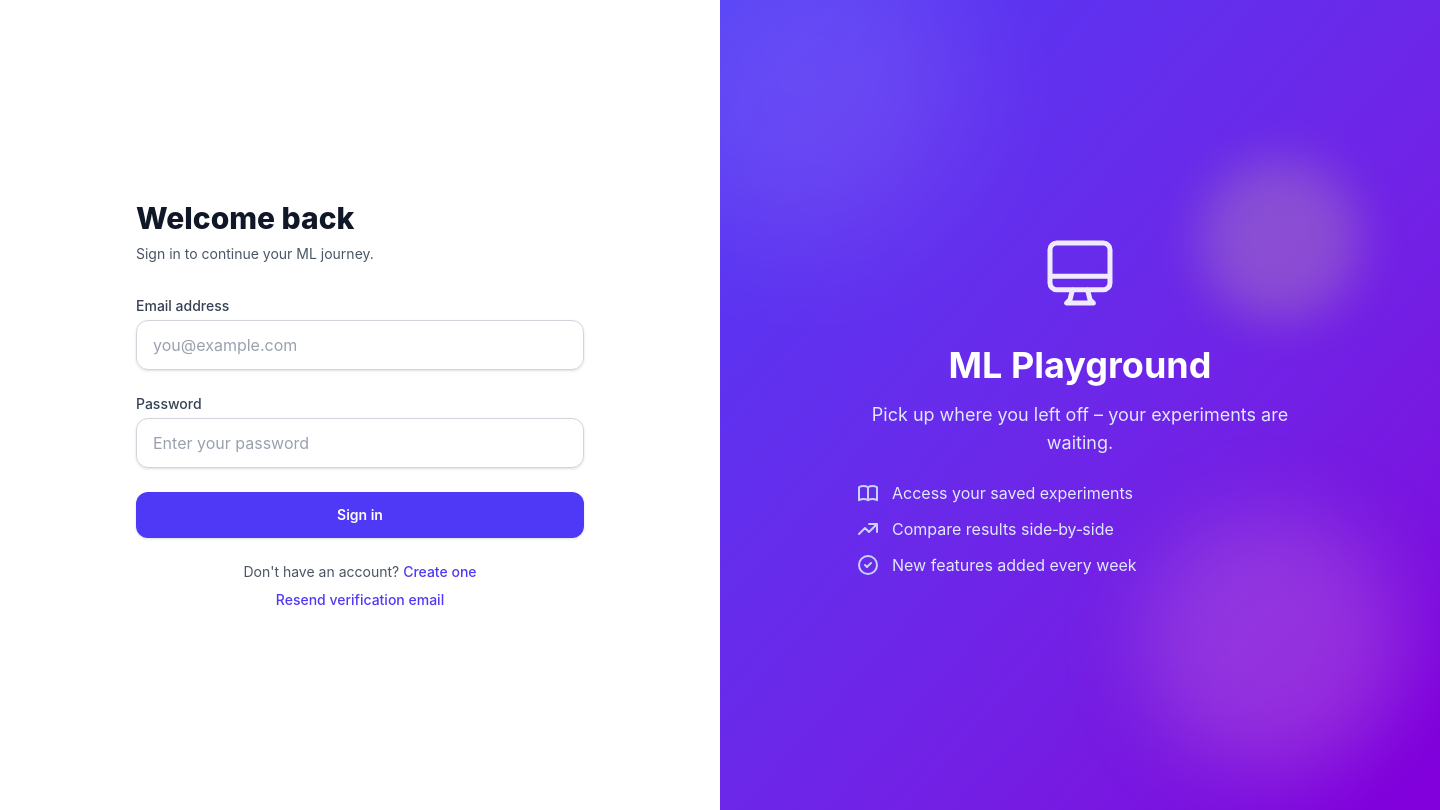
Test: LoginPage › Error Handling › handles network errors gracefully
Type "test@example.com" into the field labelled "Email address". click: x=360, y=345
box: [136,320,584,370]
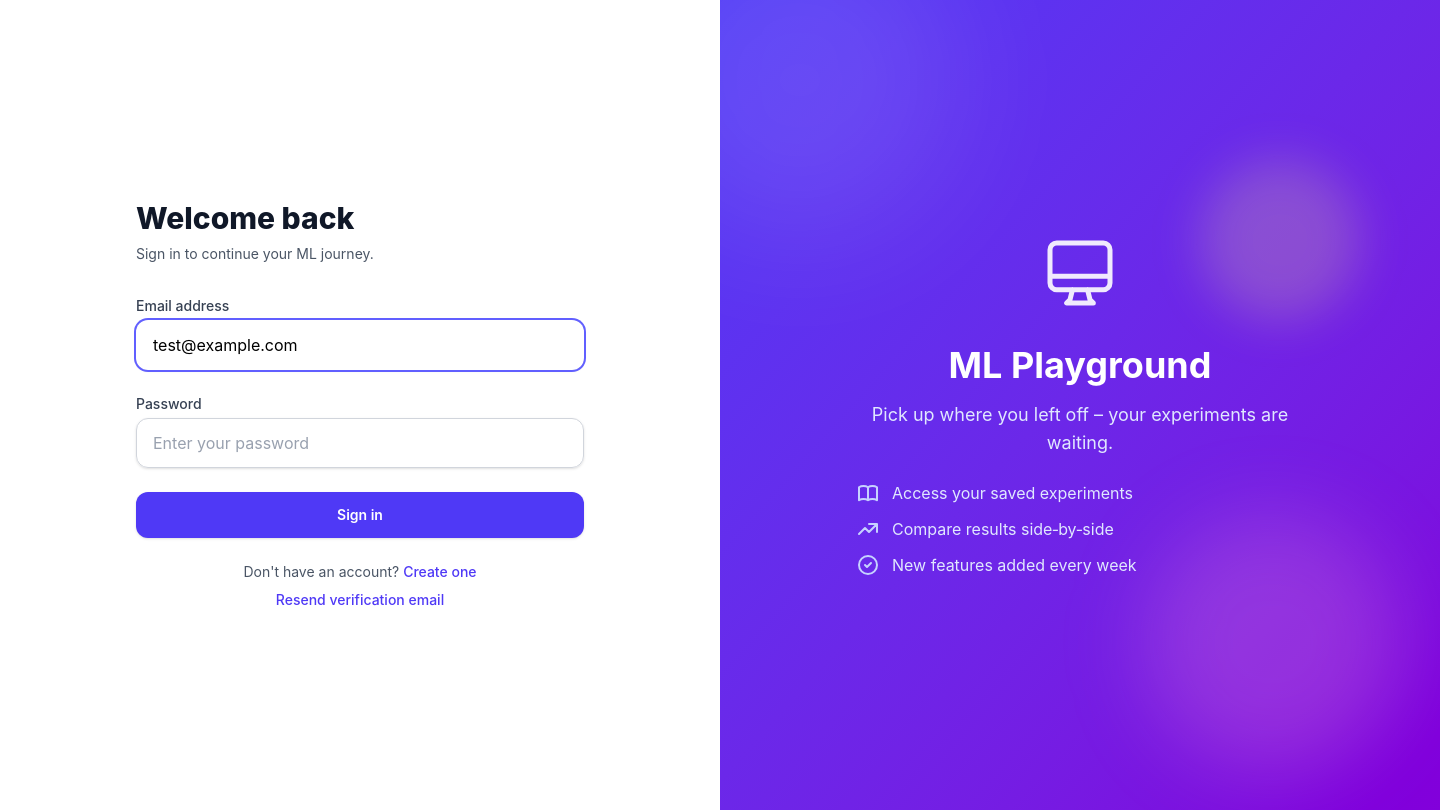
Type "password123" into the password field labelled "Password". click: x=360, y=443
box: [136,418,584,468]
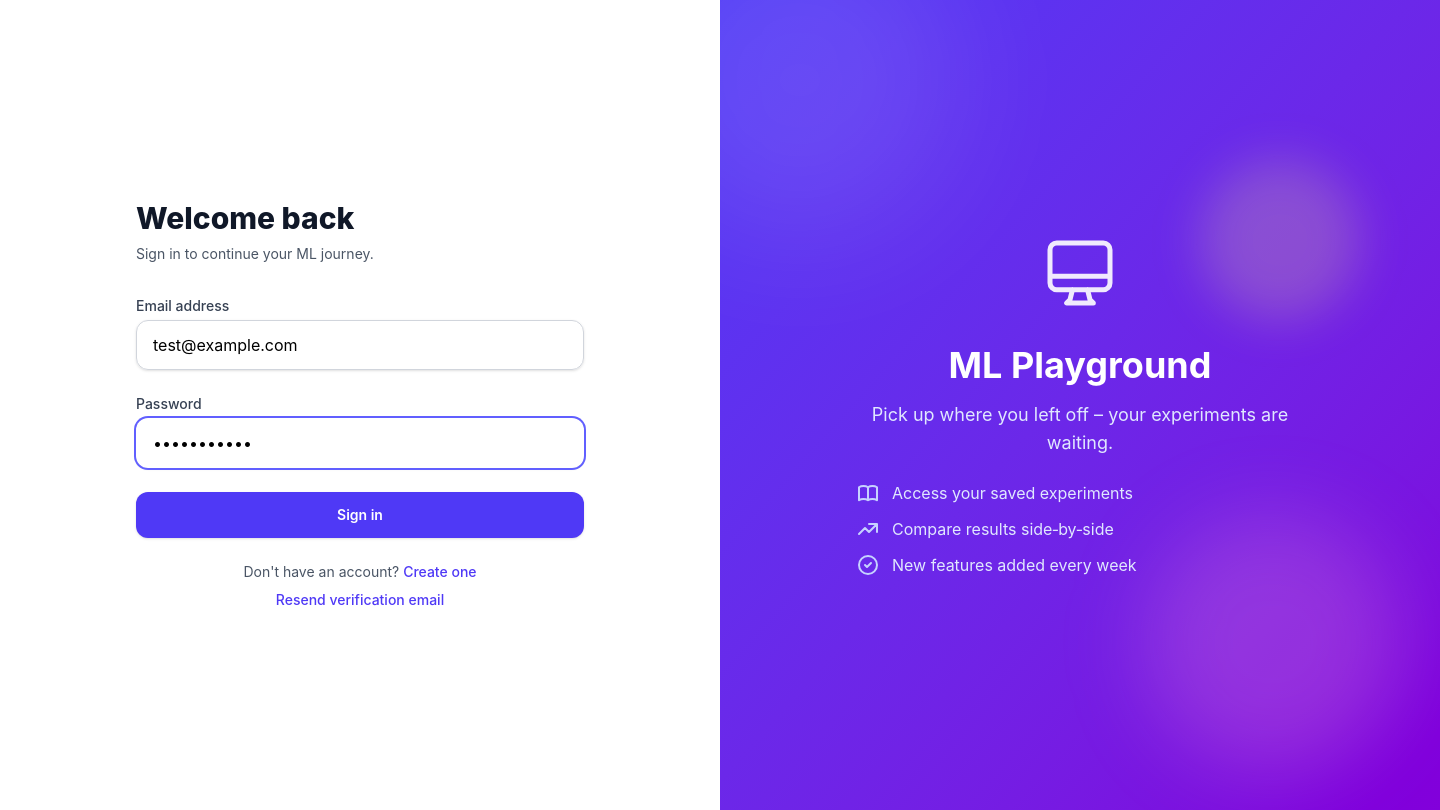
Click the button "Sign in". click: x=360, y=515
box: [136,492,584,538]
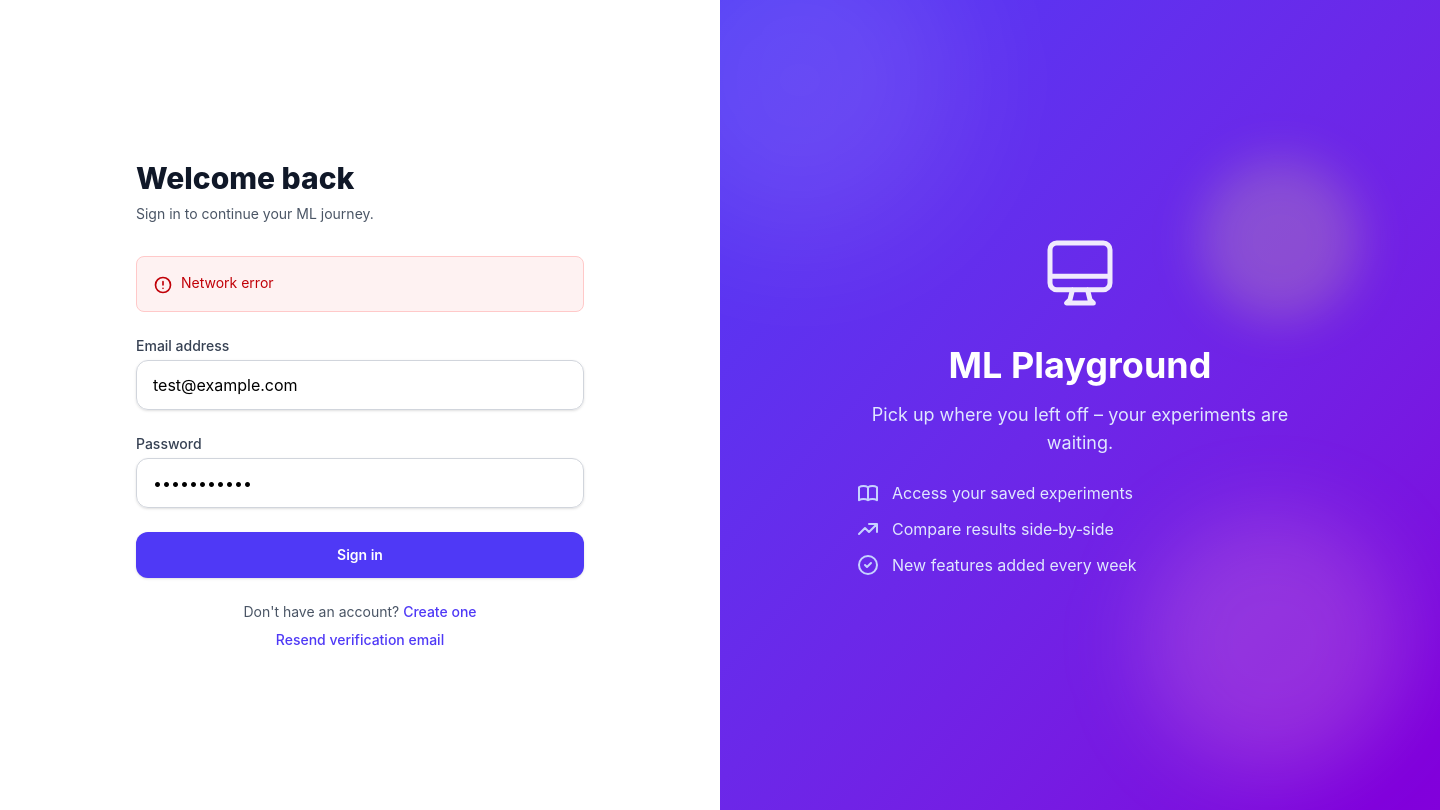
Result: the text "Network error" is shown at [181,273,274,293]
